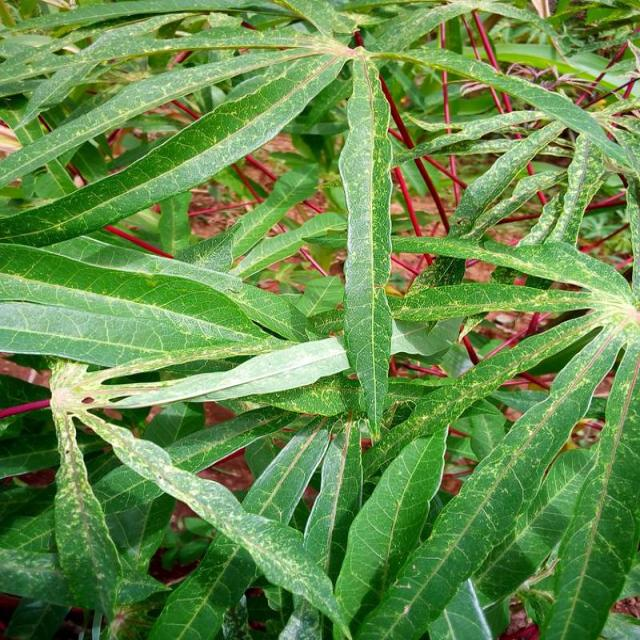cassava leaf: (2, 1, 640, 638), (339, 44, 395, 442)
